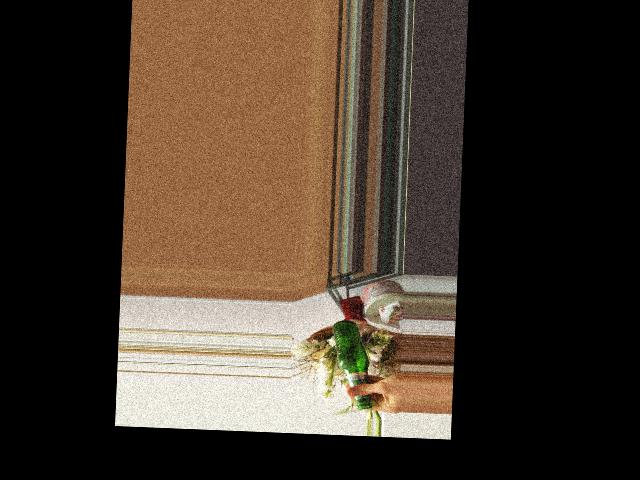beer: (329, 319, 371, 409)
